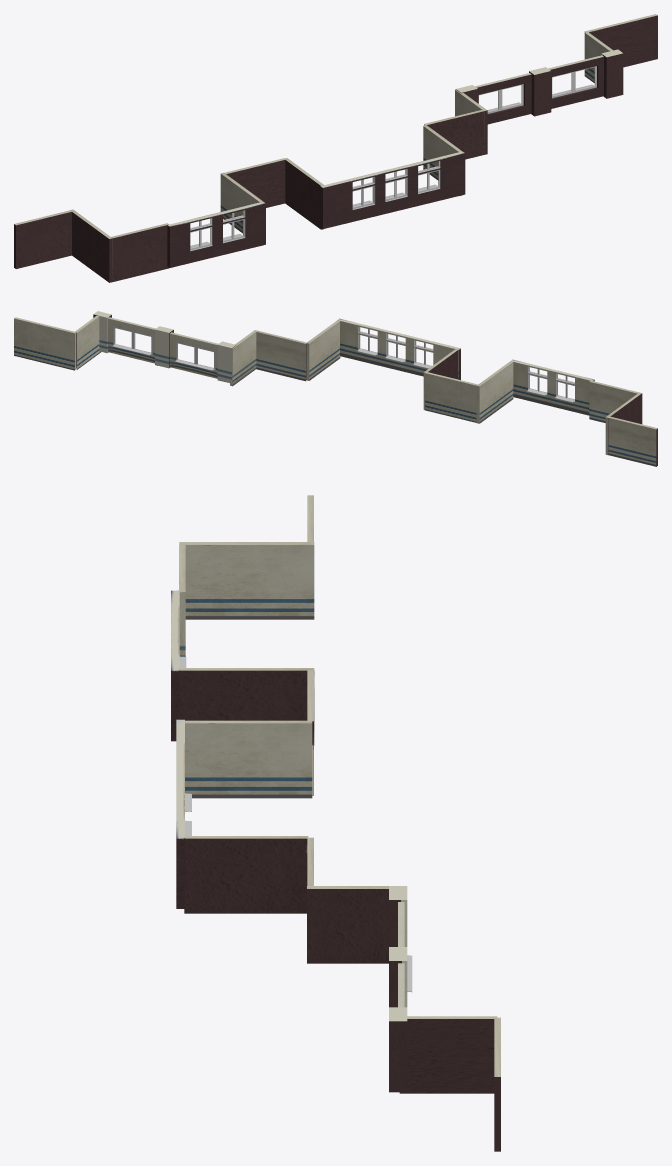
File: level001_northwall.fbx
The picture shows the model from 3 angles, top to bottom: view 1: azimuth 30°, elevation 25°; view 2: azimuth 150°, elevation 25°; view 3: azimuth 270°, elevation 25°; orthographic projection. The views are drawn at different scales.
Parts seen in each view (by area): view 1: polySurface66, polySurface128, polySurface8, polySurface7, polySurface4, polySurface6, polySurface14, polySurface9, polySurface13, polySurface17, polySurface18, polySurface5 (+5 smaller); view 2: polySurface66, polySurface128, polySurface4, polySurface14, polySurface13, polySurface8, polySurface5, polySurface10, polySurface18, polySurface17, polySurface7, polySurface11 (+6 smaller); view 3: polySurface6, polySurface9, polySurface10, polySurface5, polySurface12, polySurface11, polySurface66, polySurface3, polySurface128, polySurface4.
Part boxes in pixels (box(x1,y1,x2,y2)): polySurface66: box(320, 151, 465, 228); polySurface128: box(167, 201, 265, 267); polySurface8: box(14, 210, 72, 268); polySurface7: box(111, 223, 169, 281); polySurface4: box(584, 14, 657, 67); polySurface6: box(70, 209, 112, 282); polySurface14: box(224, 158, 286, 207); polySurface9: box(285, 158, 323, 229); polySurface13: box(424, 110, 483, 159); polySurface17: box(548, 55, 603, 108); polySurface18: box(475, 73, 531, 124); polySurface5: box(220, 172, 262, 233); polySurface66: box(337, 318, 460, 379); polySurface128: box(511, 359, 594, 415); polySurface4: box(14, 317, 76, 370); polySurface14: box(425, 372, 477, 422); polySurface13: box(256, 330, 306, 381); polySurface8: box(608, 416, 657, 466); polySurface5: box(476, 361, 513, 423); polySurface10: box(306, 320, 340, 380); polySurface18: box(170, 332, 218, 378); polySurface17: box(108, 317, 155, 363); polySurface7: box(589, 380, 638, 422); polySurface11: box(230, 330, 257, 386); polySurface6: box(179, 542, 314, 619); polySurface9: box(185, 720, 312, 798); polySurface10: box(184, 836, 308, 913); polySurface5: box(179, 668, 314, 745); polySurface12: box(399, 1016, 497, 1093); polySurface11: box(307, 886, 388, 963); polySurface66: box(176, 719, 191, 908); polySurface3: box(389, 1007, 407, 1092); polySurface128: box(171, 590, 186, 741); polySurface4: box(494, 1017, 500, 1151).
Bounding box in the file's own units: 166 × 10.17 × 39.96.
